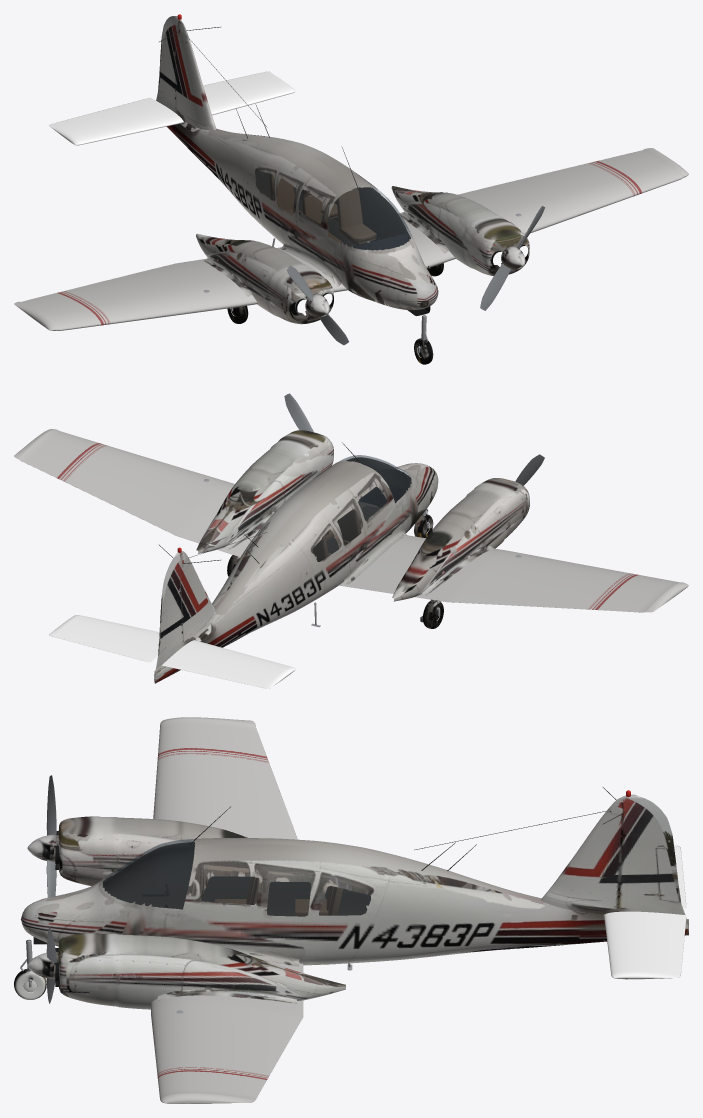
3 renders of one model, top to bottom at view 1: azimuth 30°, elevation 25°; view 2: azimuth 150°, elevation 25°; view 3: azimuth 270°, elevation 25°, orthographic. The views are drawn at different scales.
Visible parts, largest first — view 1: fuselage, wing_L, wing_R, nacelle_L, nacelle_R, fuselage_glass, fin, stab_R, stab_L, cabin_shell, seat0_back, wing_fillet_R (+3 smaller); view 2: fuselage, wing_R, wing_L, nacelle_R, nacelle_L, fin, stab_R, stab_L, fuselage_glass, cabin_shell, wing_fillet_R, seat1_back (+3 smaller); view 3: fuselage, nacelle_L, wing_L, wing_R, fin, fuselage_glass, cabin_shell, nacelle_R, stab_L, nac_fillet_L_out, nose_wheel_tire, wing_fillet_L (+1 smaller).
Boxes of the visible parts, left/top/right/bottom form: fuselage: left=166, top=121, right=438, bottom=310; wing_L: left=367, top=148, right=688, bottom=268; wing_R: left=14, top=247, right=347, bottom=330; nacelle_L: left=391, top=186, right=529, bottom=275; nacelle_R: left=196, top=233, right=333, bottom=324; fuselage_glass: left=256, top=170, right=411, bottom=249; fin: left=156, top=16, right=216, bottom=130; stab_R: left=49, top=97, right=183, bottom=145; stab_L: left=203, top=71, right=295, bottom=115; cabin_shell: left=255, top=170, right=410, bottom=241; seat0_back: left=336, top=188, right=362, bottom=228; wing_fillet_R: left=280, top=243, right=341, bottom=286; fuselage: left=154, top=461, right=438, bottom=683; wing_R: left=339, top=535, right=688, bottom=612; wing_L: left=14, top=429, right=259, bottom=557; nacelle_R: left=392, top=478, right=529, bottom=601; nacelle_L: left=196, top=430, right=333, bottom=553; fin: left=155, top=551, right=216, bottom=669; stab_R: left=162, top=640, right=295, bottom=688; stab_L: left=49, top=615, right=159, bottom=662; fuselage_glass: left=313, top=455, right=411, bottom=561; cabin_shell: left=346, top=457, right=411, bottom=508; wing_fillet_R: left=344, top=529, right=408, bottom=584; seat1_back: left=337, top=509, right=361, bottom=541; fuselage: left=21, top=838, right=688, bottom=965; nacelle_L: left=57, top=933, right=345, bottom=1009; wing_L: left=151, top=962, right=303, bottom=1103; wing_R: left=153, top=717, right=297, bottom=839; fin: left=541, top=794, right=686, bottom=918; fuselage_glass: left=103, top=839, right=370, bottom=916; cabin_shell: left=102, top=842, right=370, bottom=916; nacelle_R: left=57, top=816, right=247, bottom=886; stab_L: left=604, top=911, right=686, bottom=979; nac_fillet_L_out: left=157, top=989, right=296, bottom=1003; nose_wheel_tire: left=14, top=969, right=46, bottom=999; wing_fillet_L: left=215, top=944, right=299, bottom=966.
Bounding box in the file's own units: 11.28 × 2.87 × 8.41.
Materials: 18 (2 with a texture image).
